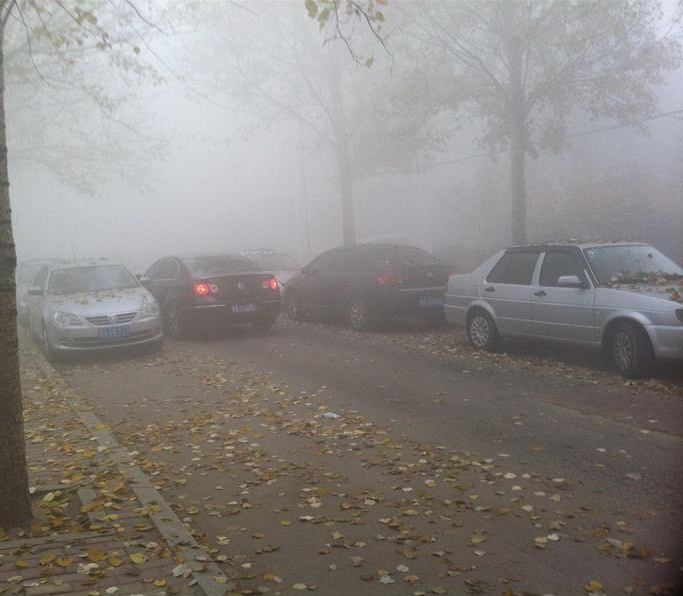car: (440, 236, 683, 373), (278, 240, 459, 332), (27, 257, 164, 360), (132, 251, 281, 341), (218, 246, 308, 316)
